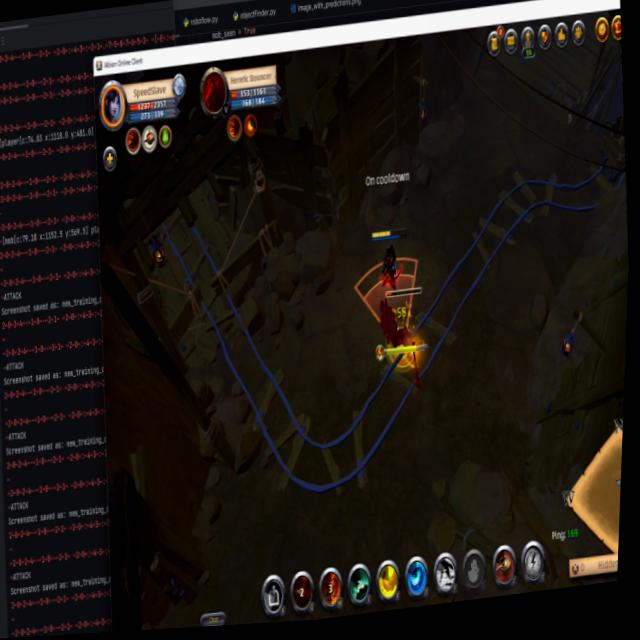ore: (371, 280, 431, 390)
red: (362, 224, 409, 299)
silver: (353, 256, 419, 349)
